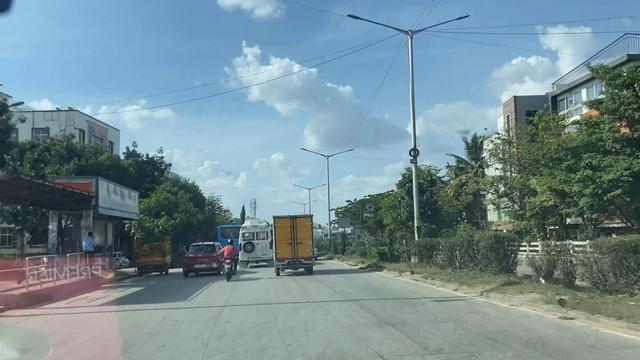HMV: (269, 215, 317, 274), (244, 222, 276, 267)
LMV: (187, 245, 222, 275), (221, 237, 240, 276)
